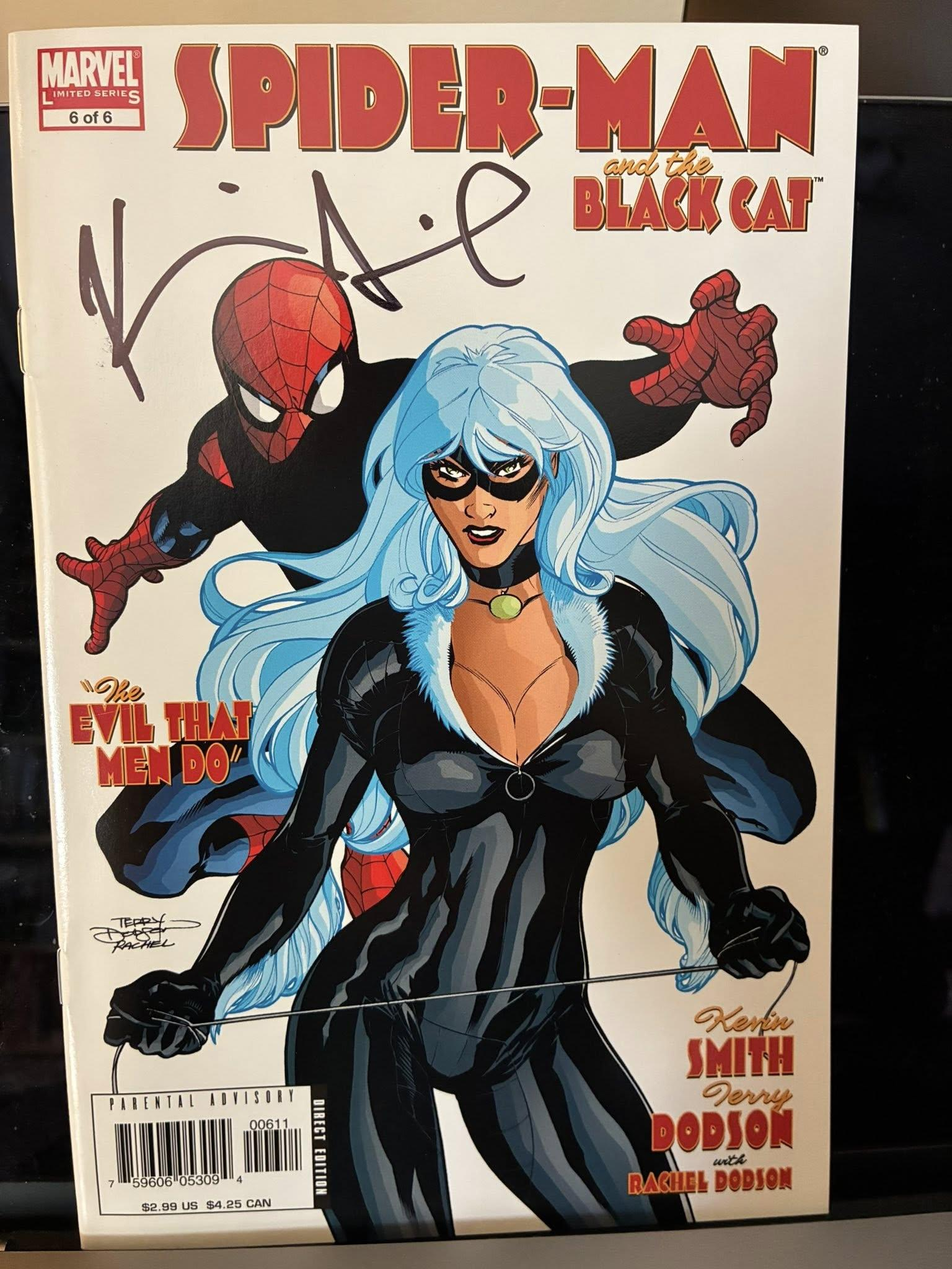comic: (12, 19, 869, 1247)
